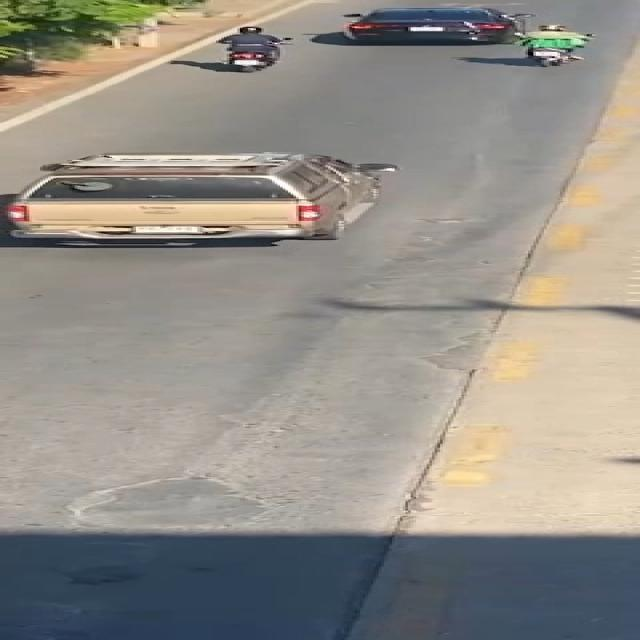car: (0, 141, 408, 254), (316, 3, 545, 48)
